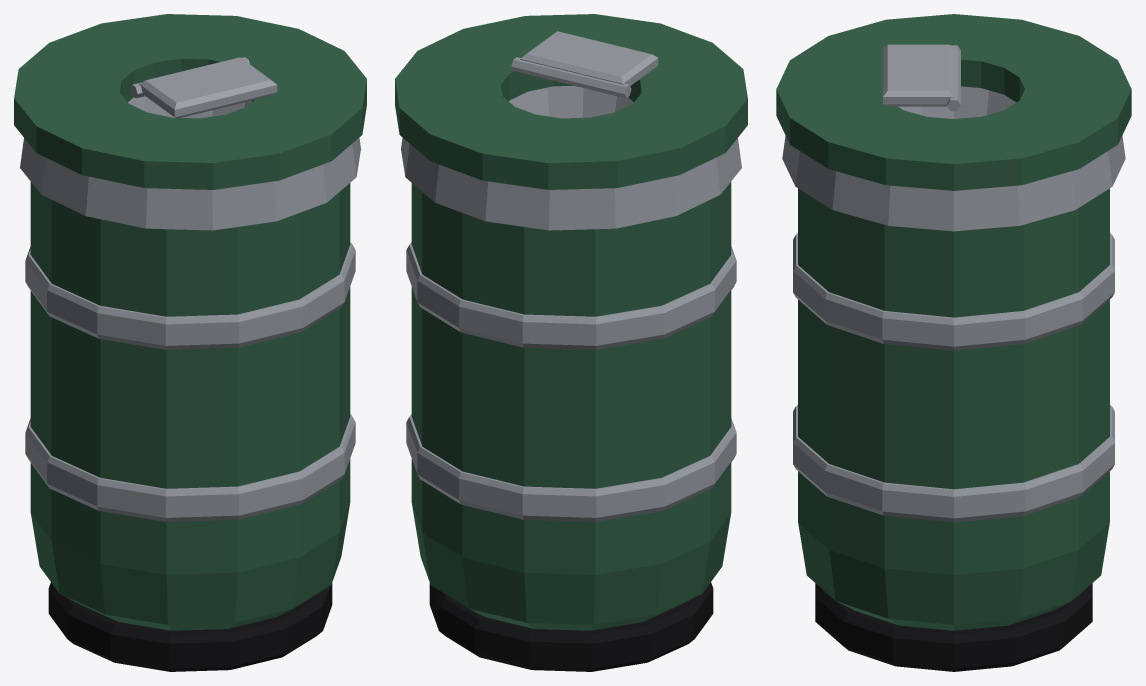
Rendered from PROP_07.obj.
The picture shows the model from 3 angles, left to right: view 1: azimuth 30°, elevation 25°; view 2: azimuth 150°, elevation 25°; view 3: azimuth 270°, elevation 25°; orthographic projection.
Parts seen in each view (by area): view 1: PROP_07__shell, PROP_07__lid, PROP_07__straps, PROP_07__rim, PROP_07__base_ring, PROP_07__flap; view 2: PROP_07__shell, PROP_07__lid, PROP_07__straps, PROP_07__rim, PROP_07__base_ring, PROP_07__flap, PROP_07__flap_hinge; view 3: PROP_07__shell, PROP_07__lid, PROP_07__straps, PROP_07__rim, PROP_07__base_ring, PROP_07__flap, PROP_07__flap_hinge.
Boxes of the visible parts, x1,y1,x2,y2 form: PROP_07__shell: (30, 182, 350, 630); PROP_07__lid: (14, 14, 366, 189); PROP_07__straps: (25, 242, 355, 521); PROP_07__rim: (20, 96, 360, 230); PROP_07__base_ring: (48, 582, 332, 671); PROP_07__flap: (139, 57, 277, 118); PROP_07__shell: (411, 182, 731, 630); PROP_07__lid: (395, 14, 747, 189); PROP_07__straps: (406, 242, 736, 521); PROP_07__rim: (401, 85, 741, 230); PROP_07__base_ring: (429, 582, 713, 671); PROP_07__flap: (520, 31, 658, 85); PROP_07__flap_hinge: (511, 57, 631, 98); PROP_07__shell: (798, 188, 1109, 630); PROP_07__lid: (776, 14, 1131, 190); PROP_07__straps: (793, 233, 1114, 522); PROP_07__rim: (782, 86, 1125, 231); PROP_07__base_ring: (815, 583, 1092, 671); PROP_07__flap: (883, 44, 953, 106); PROP_07__flap_hinge: (947, 45, 960, 111).
Bounding box in the file's own units: 0.6 × 1.02 × 0.6.
